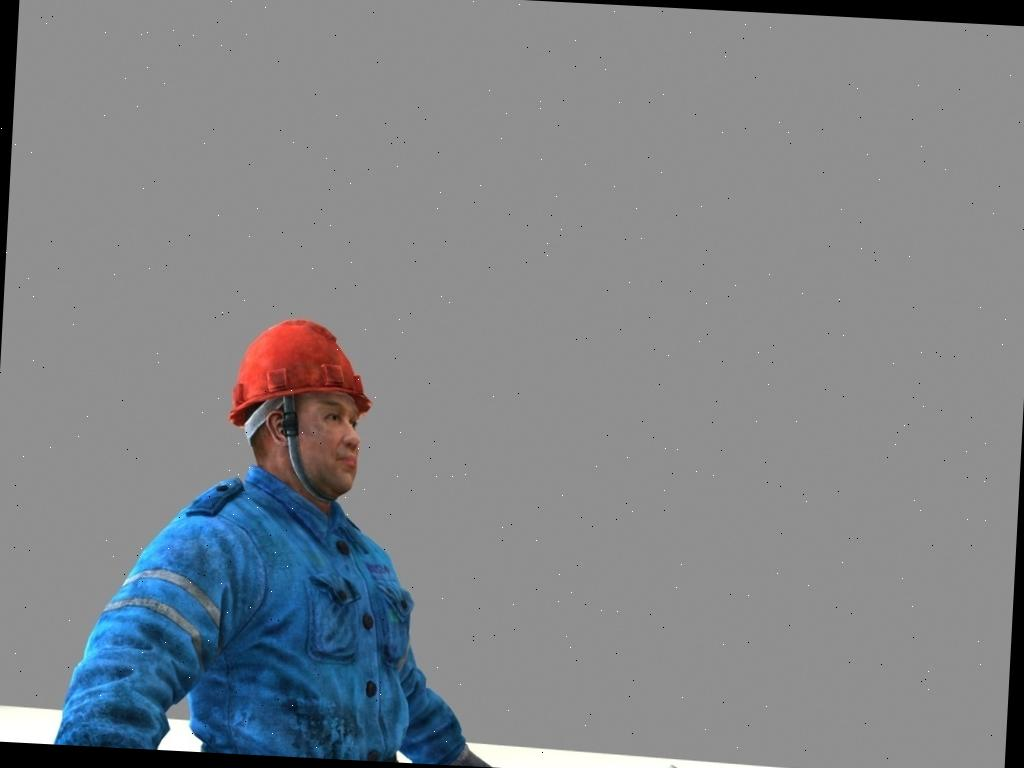helmet: (222, 310, 376, 434)
wear: (182, 512, 396, 762)
